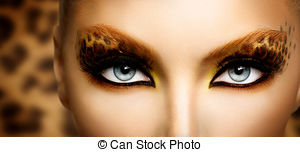face: (54, 1, 299, 139)
